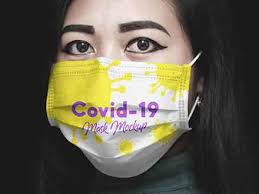with-mask: (44, 9, 214, 181)
